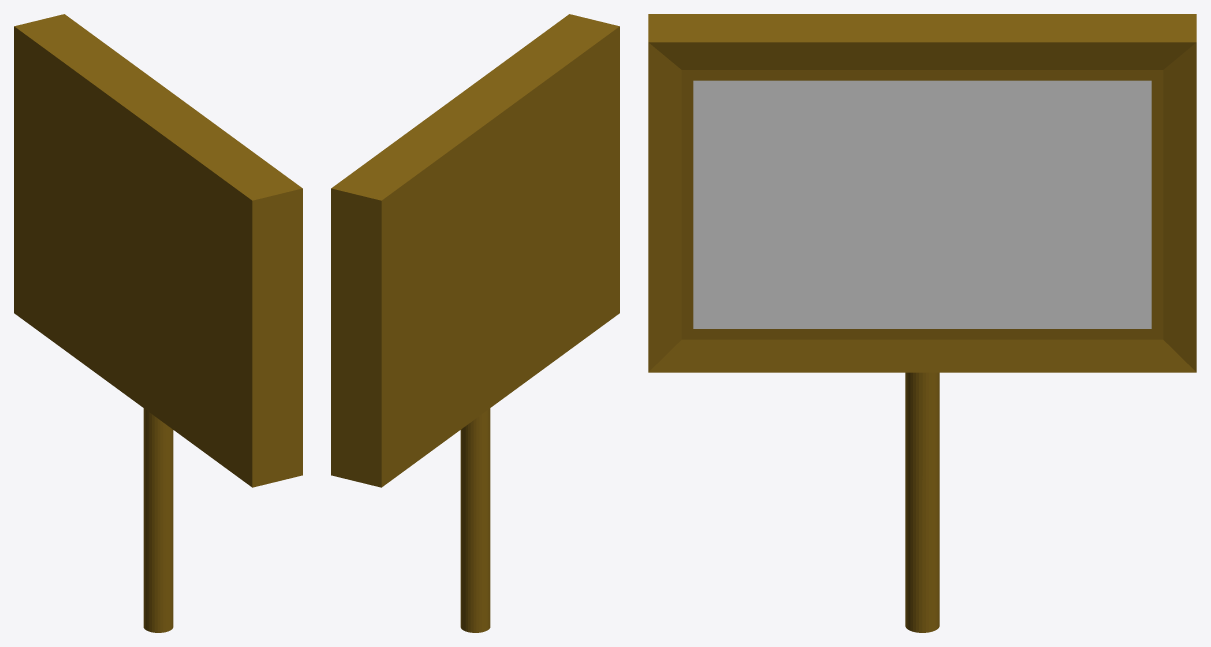
The model's file is sign.fbx.
The picture shows the model from 3 angles, left to right: view 1: azimuth 30°, elevation 25°; view 2: azimuth 150°, elevation 25°; view 3: azimuth 270°, elevation 25°; orthographic projection. The views are drawn at different scales.
Visible parts, largest first — view 1: Cylinder; view 2: Cylinder; view 3: Cylinder.001, Cylinder.
Part boxes in pixels (<box>): Cylinder: <box>14,14,302,632</box>; Cylinder: <box>331,14,619,632</box>; Cylinder.001: <box>693,80,1151,328</box>; Cylinder: <box>648,14,1196,632</box>.
Size of the model in its own units: 183 by 220 by 22.34.
Materials: 1 (1 with a texture image).
